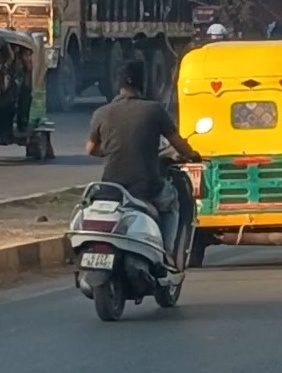BikeWithRider: (58, 54, 211, 324)
NoHelmet: (107, 55, 154, 105)
